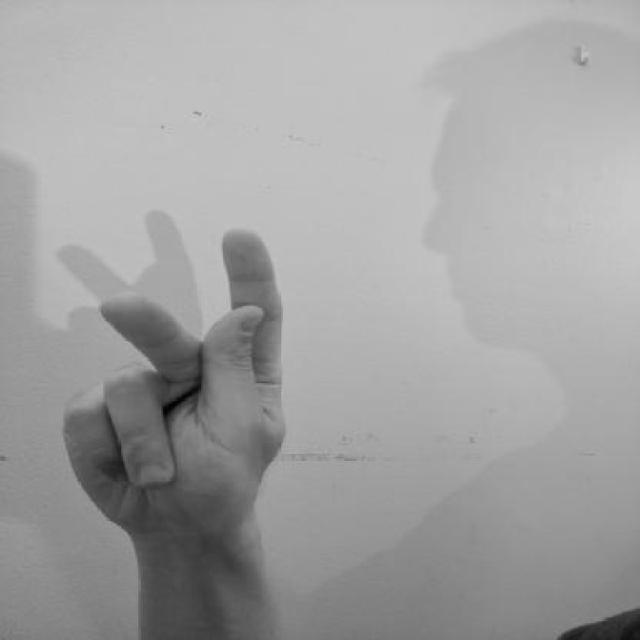K: (52, 221, 294, 550)
